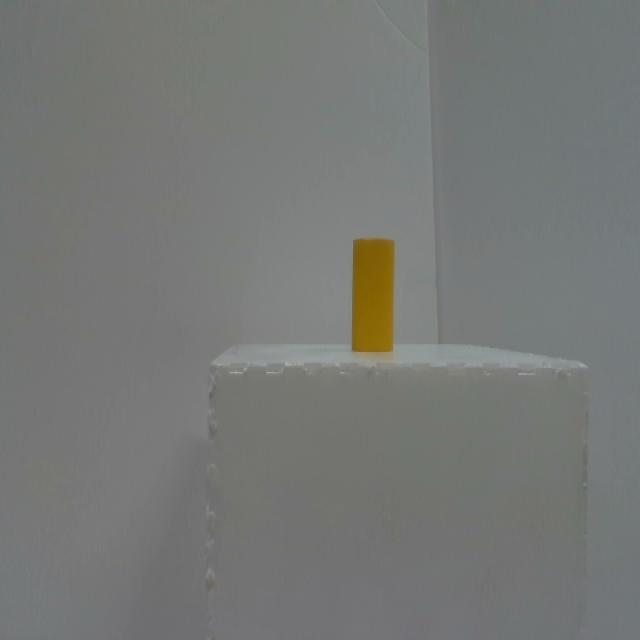yellow_cylinder: (353, 238, 394, 351)
